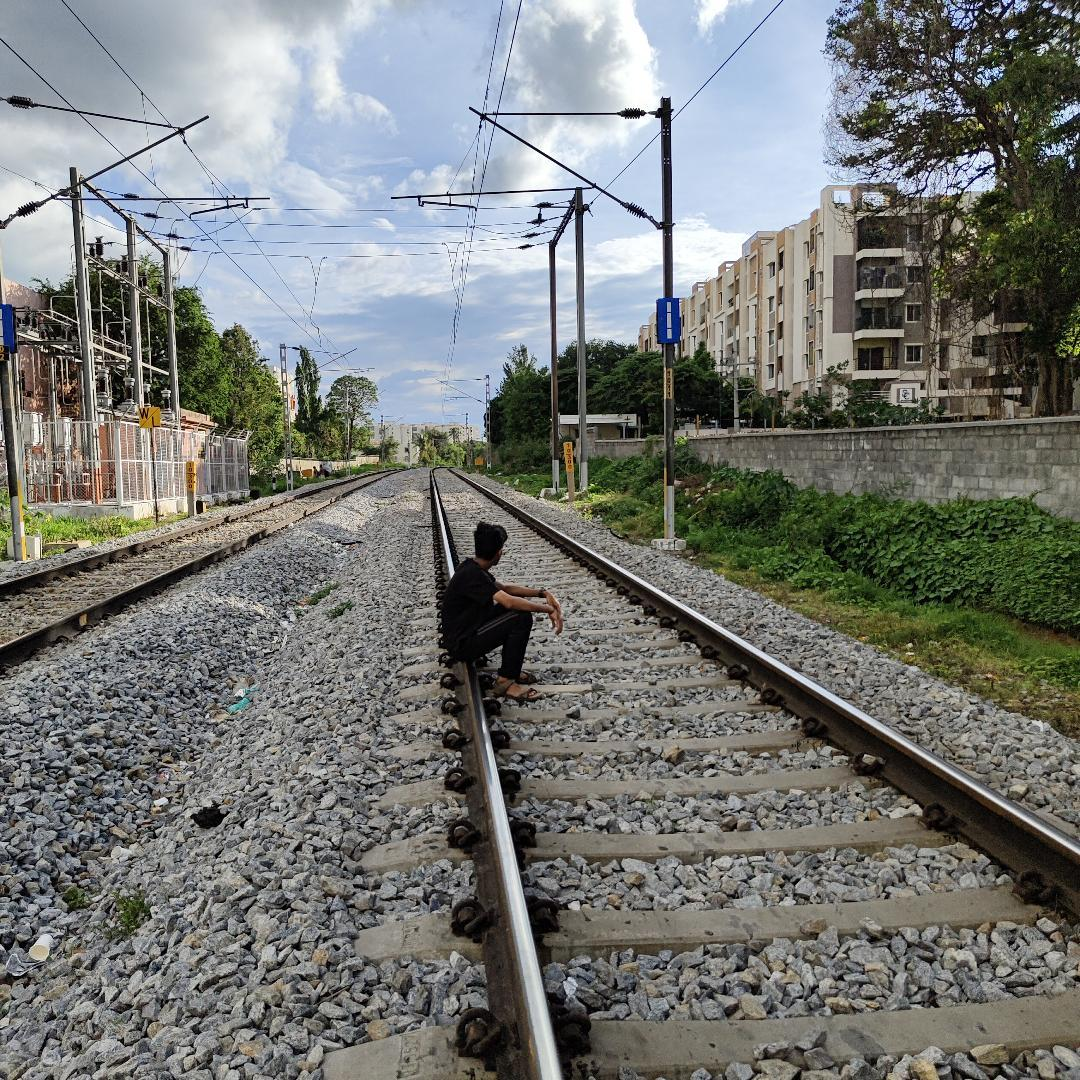sitting: (426, 522, 560, 708)
